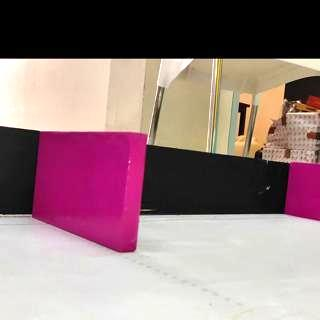xparking: (42, 133, 144, 241), (289, 163, 320, 216)
